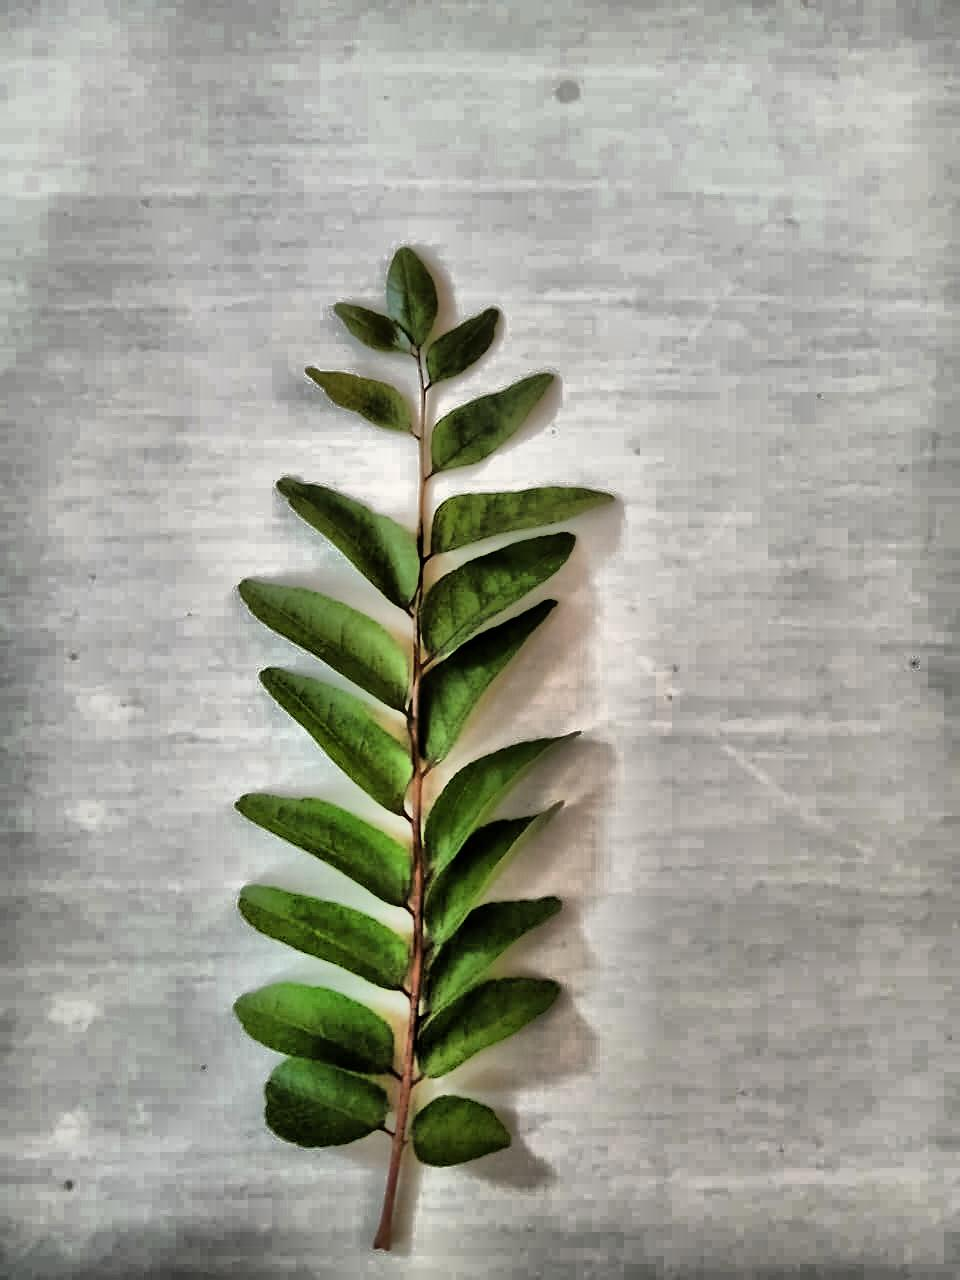daun kari: (235, 250, 613, 1249)
